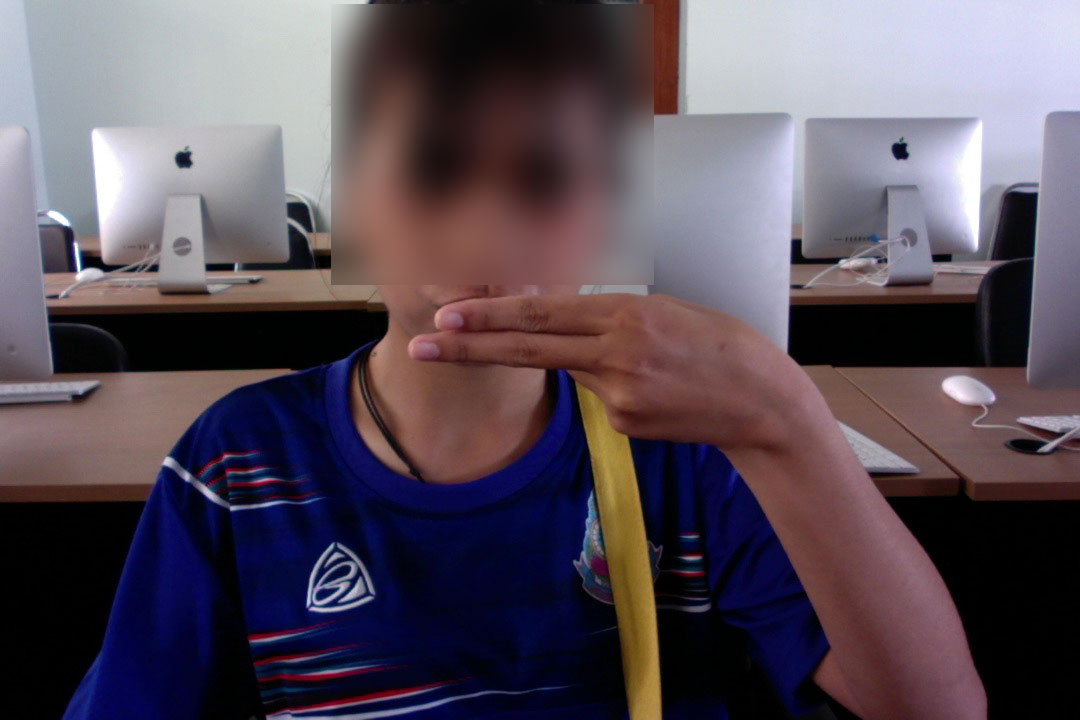hor: (395, 279, 834, 460)
